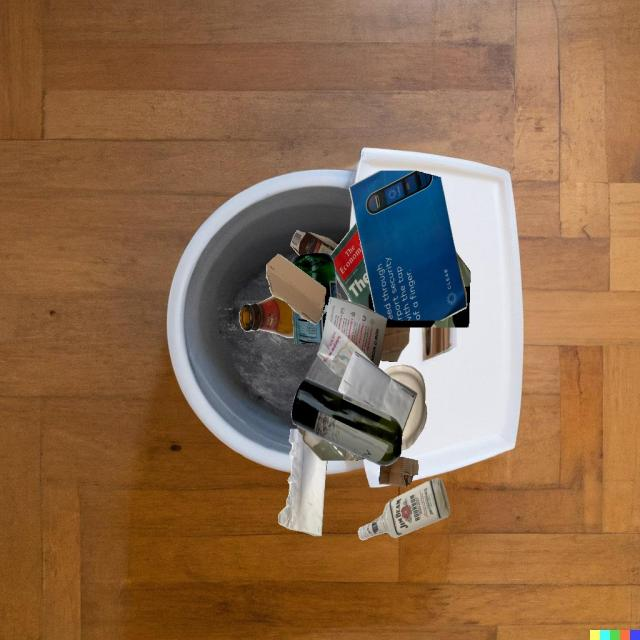cardboard: (266, 254, 328, 325), (290, 230, 338, 255), (379, 457, 418, 487), (380, 327, 410, 362)
glass: (291, 379, 402, 466), (358, 478, 450, 540), (292, 253, 338, 310), (297, 426, 365, 460), (239, 296, 294, 338), (292, 309, 327, 343)
paper: (349, 171, 467, 320), (338, 351, 417, 434), (385, 252, 470, 327), (317, 297, 387, 378), (278, 429, 327, 536), (330, 222, 375, 312), (383, 364, 427, 450)
